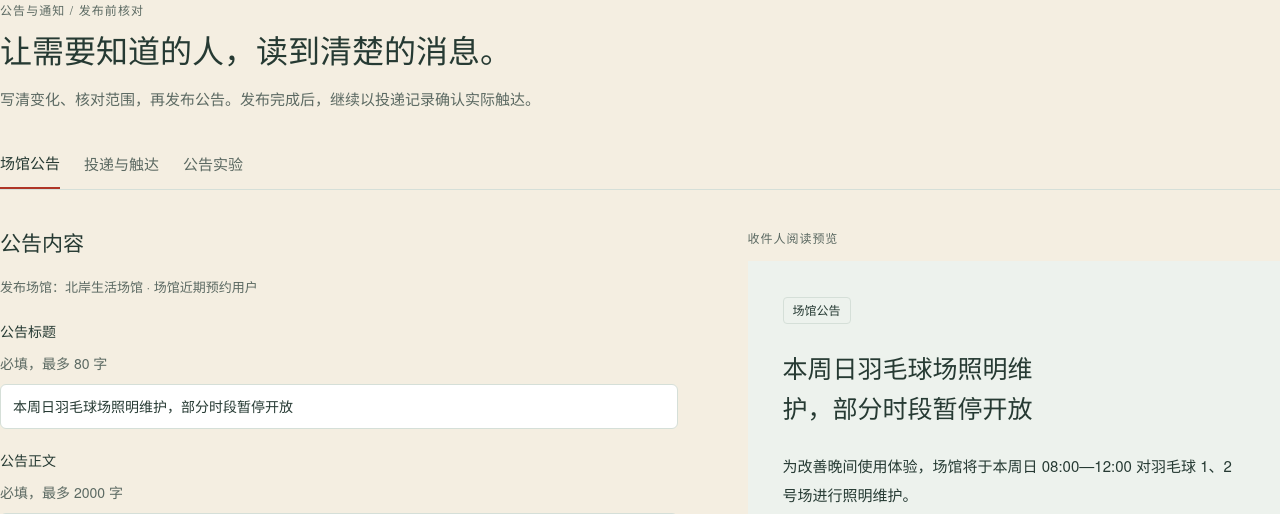
Test case: ShiguangNoticeJourneyView 页头与入口 › 切换页签写入页内 hash 并改标题
Click the button with test id "tab-delivery": {"x": 122, "y": 164} [84,140,159,190]
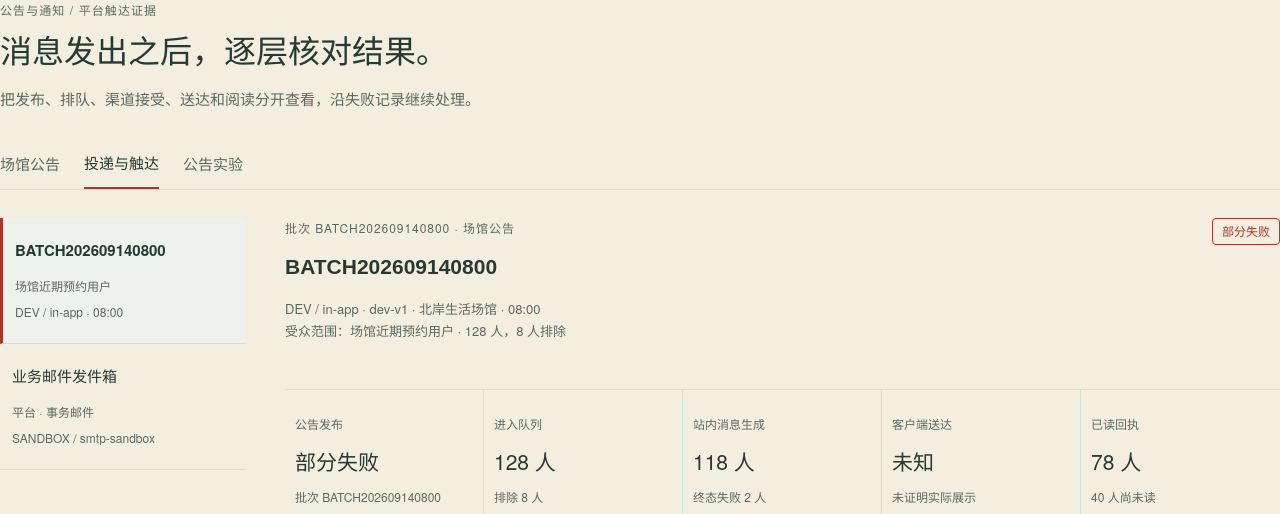
Expected: the heading "消息发出之后，逐层核对结果。" is shown, [0,32,480,74]
Expected: the text with class "a-eyebrow" reads "公告与通知 / 平台触达证据", [0,1,157,18]
